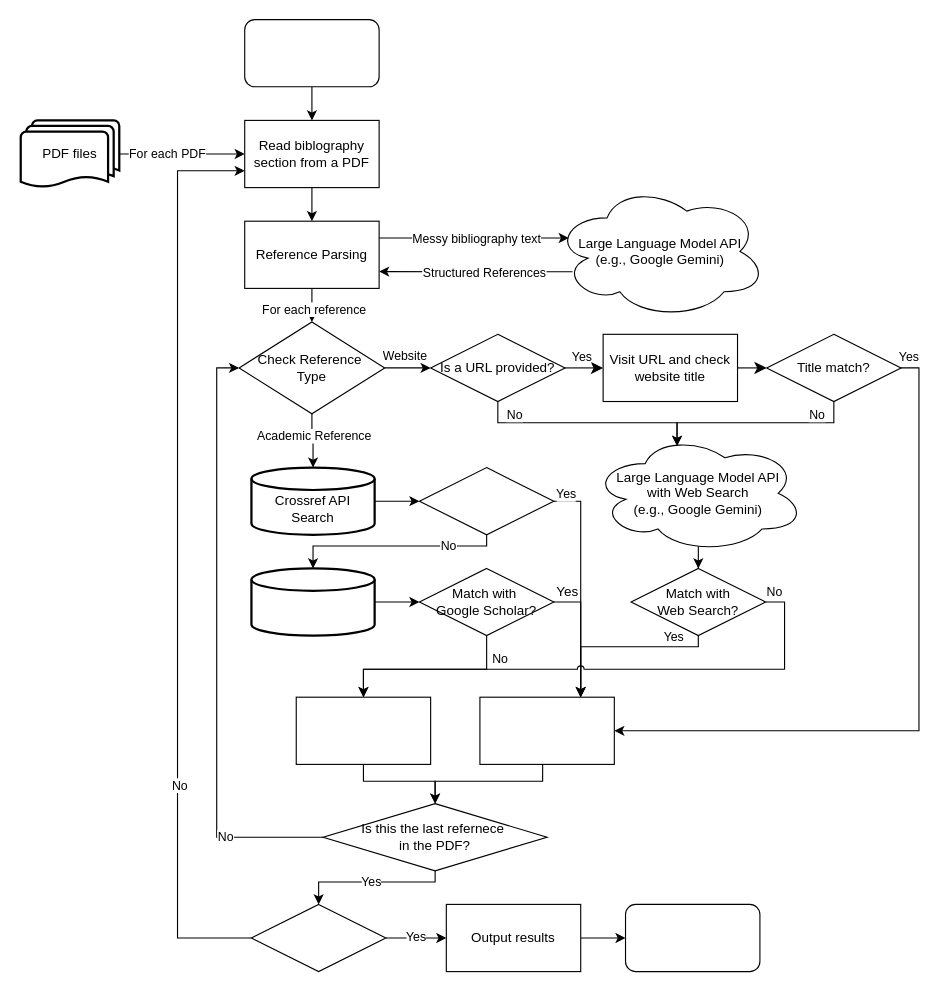
Image size: 948x991. Some labels were removed from this diagram. Here are the shapes that lost their labels. From the top down, the box of each, then its label:
(244, 18, 379, 87): Start
(418, 466, 554, 535): Match with Corssref?
(250, 567, 375, 636): Google Scholar API Search
(295, 696, 431, 764): Mark Reference as Warning ⚠️
(479, 696, 614, 764): Mark Reference as Verified ✅
(250, 903, 386, 972): Is this the last PDF?
(624, 903, 760, 972): End
